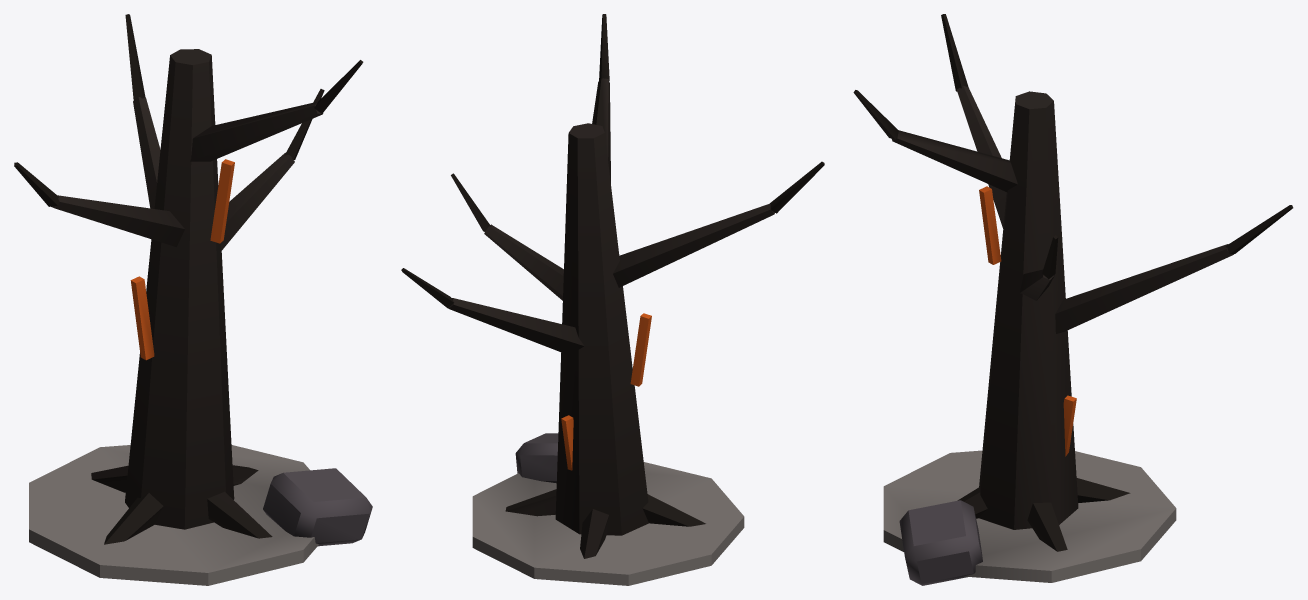
Rendered from p_tree_lava_2.glb.
3 views of the same model, side by side, from view 1: azimuth 30°, elevation 25°; view 2: azimuth 150°, elevation 25°; view 3: azimuth 270°, elevation 25° (orthographic). The views are drawn at different scales.
Visible parts, largest first — view 1: body; view 2: body; view 3: body.
Part boxes in pixels (x1=…): body: x1=14, y1=14, x2=372, y2=585; body: x1=401, y1=14, x2=824, y2=585; body: x1=853, y1=14, x2=1293, y2=585.
Size of the model in its own units: 2.39 by 3.18 by 2.62.
